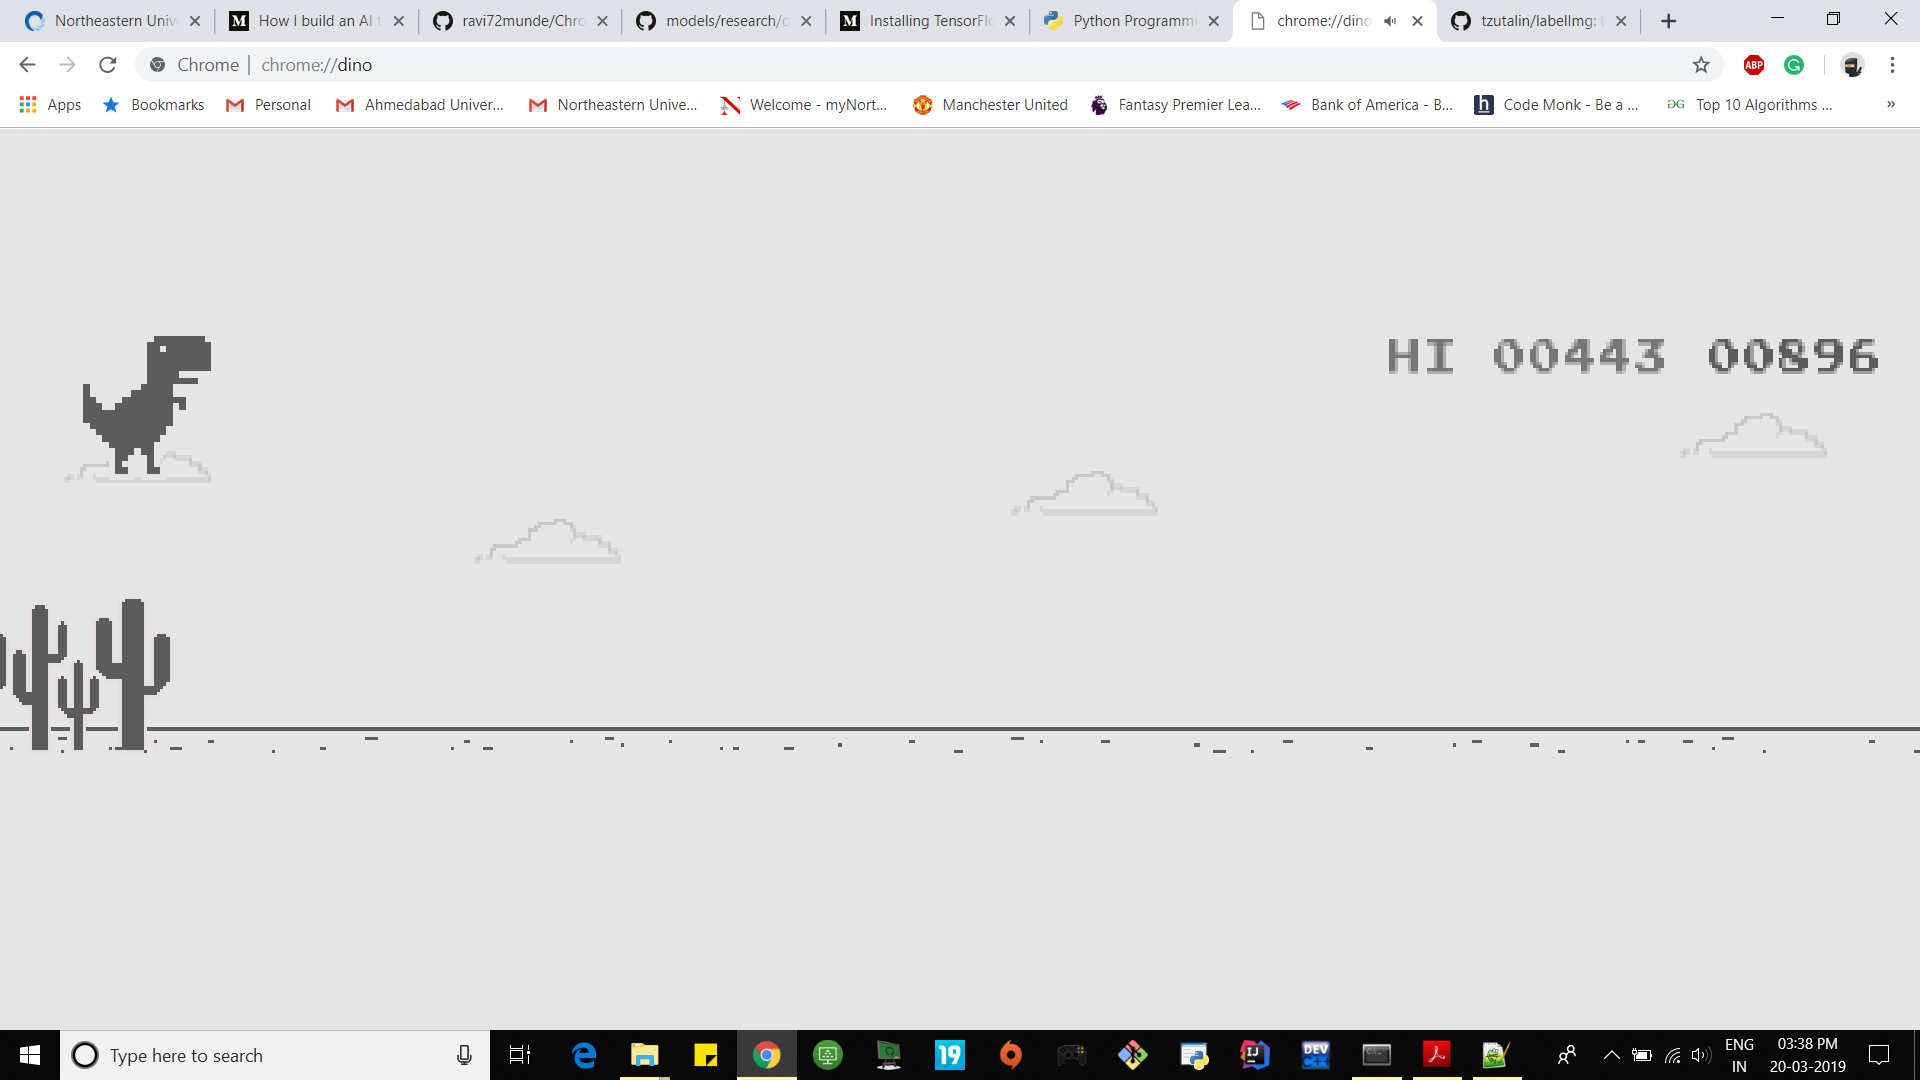cactus-4: (1, 599, 174, 750)
dino: (80, 336, 214, 476)
